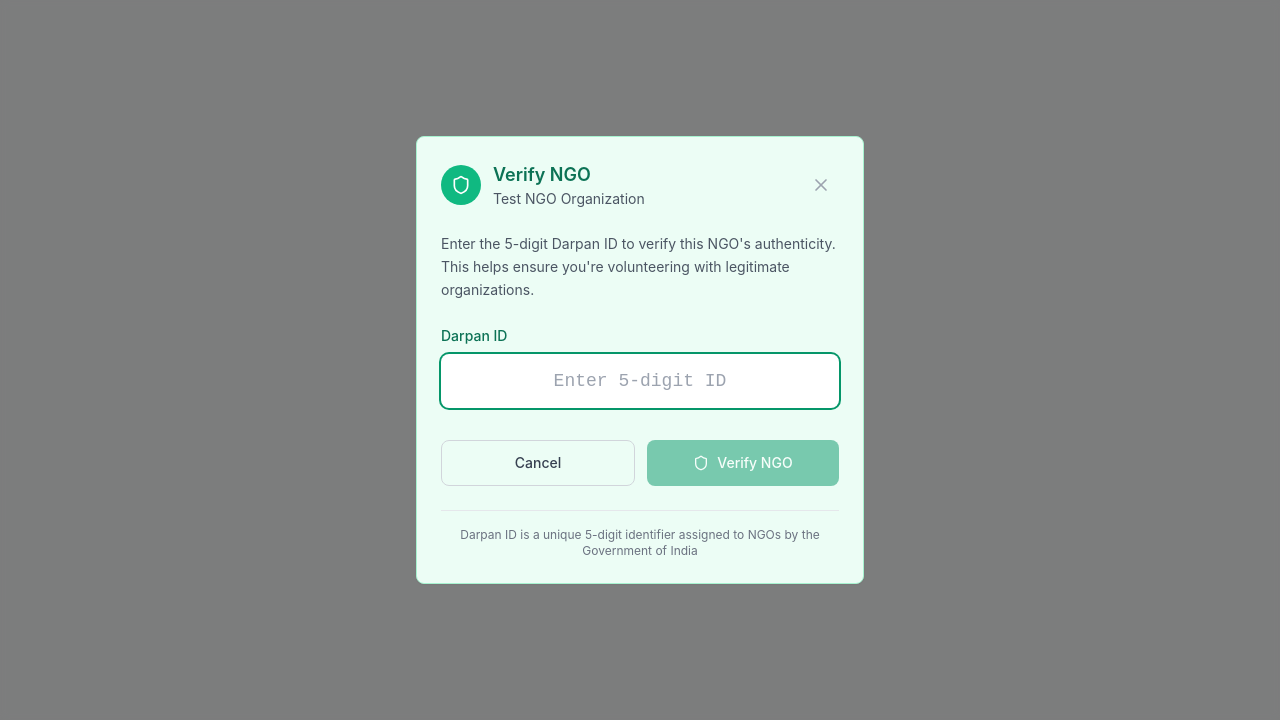
it: VerificationModal › shows success state after successful verification
In the field labelled "Darpan ID": (640, 381) [441,354,839,408], type "12345"
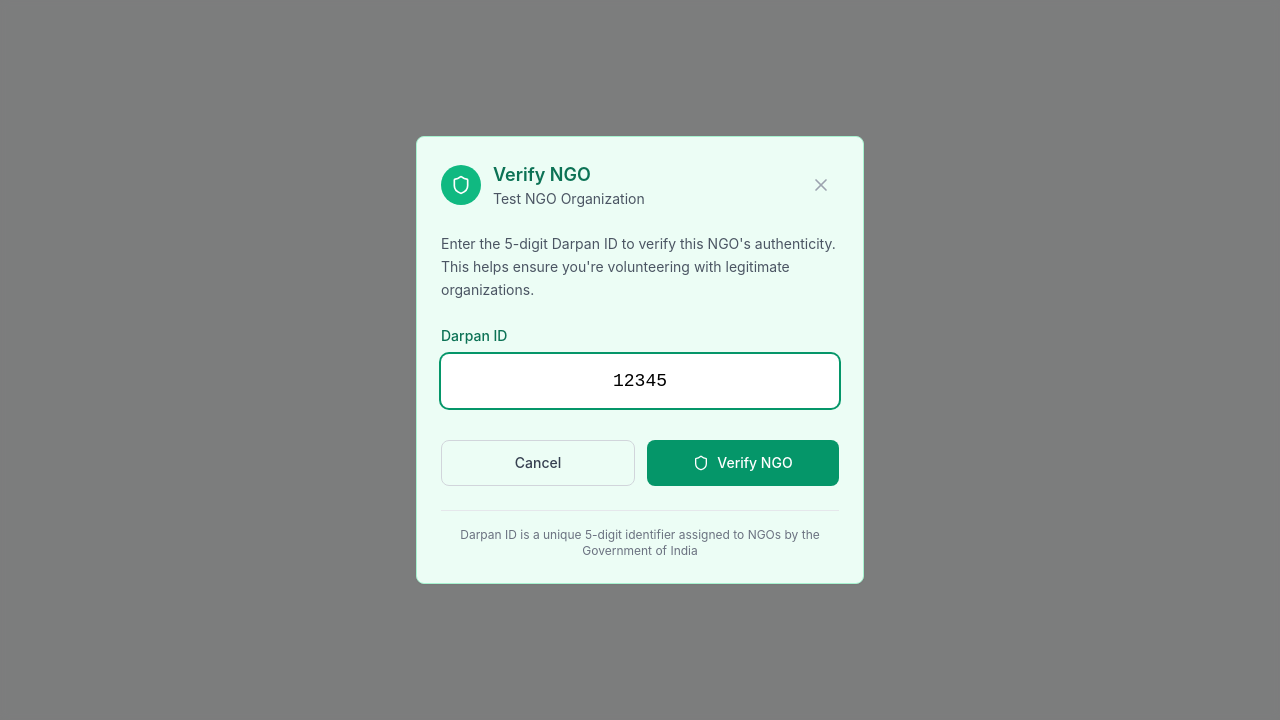
Click the button "Verify NGO": (743, 463) [647,440,839,486]
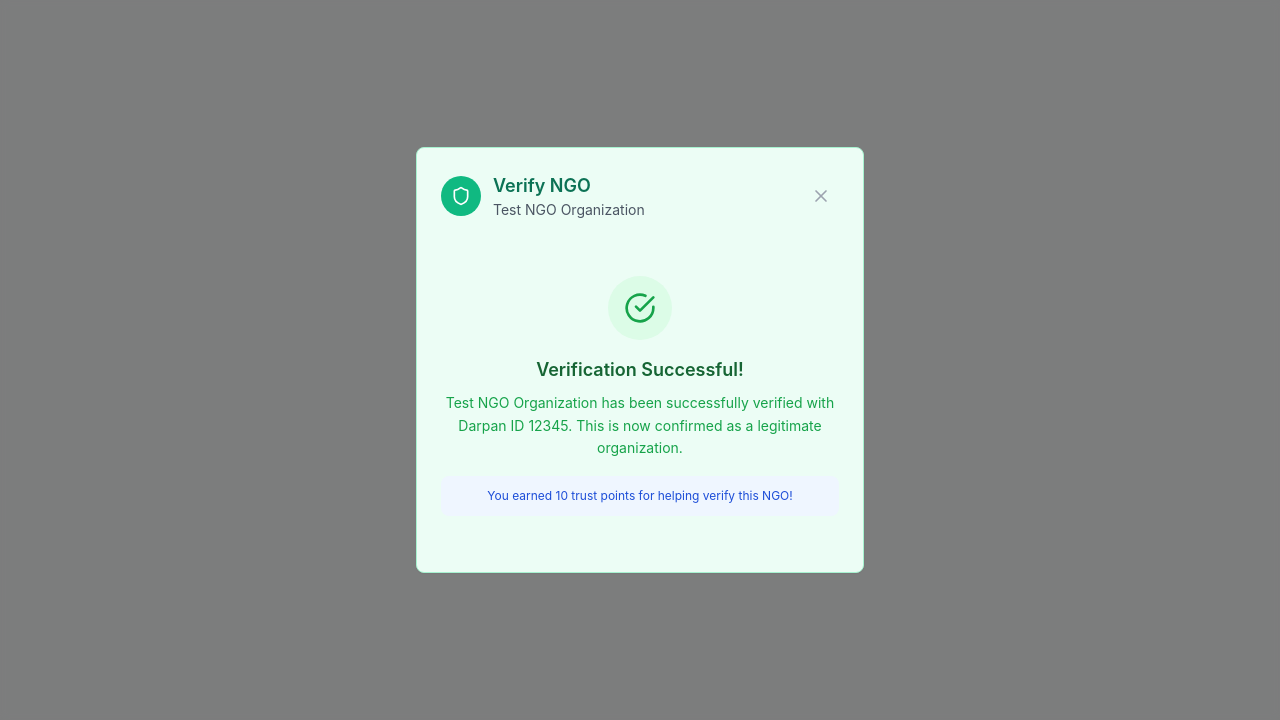
Expected: the heading "Verification Successful!" is shown, [536,359,744,380]
